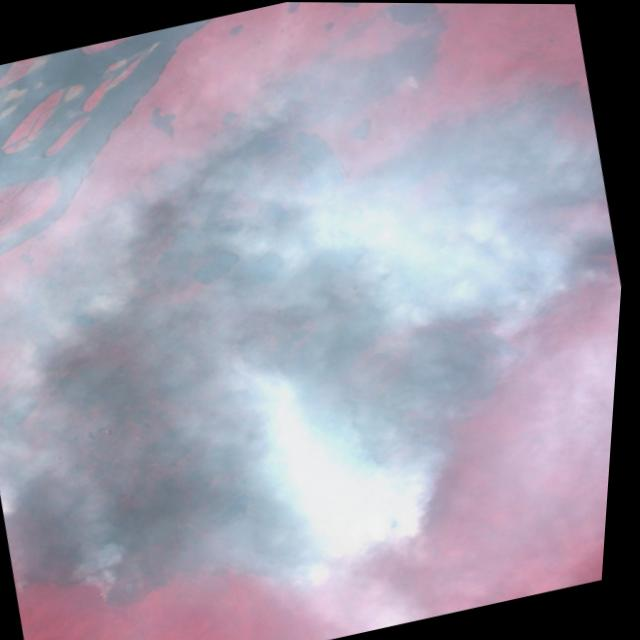fire: (358, 466, 447, 589), (537, 256, 627, 309)
